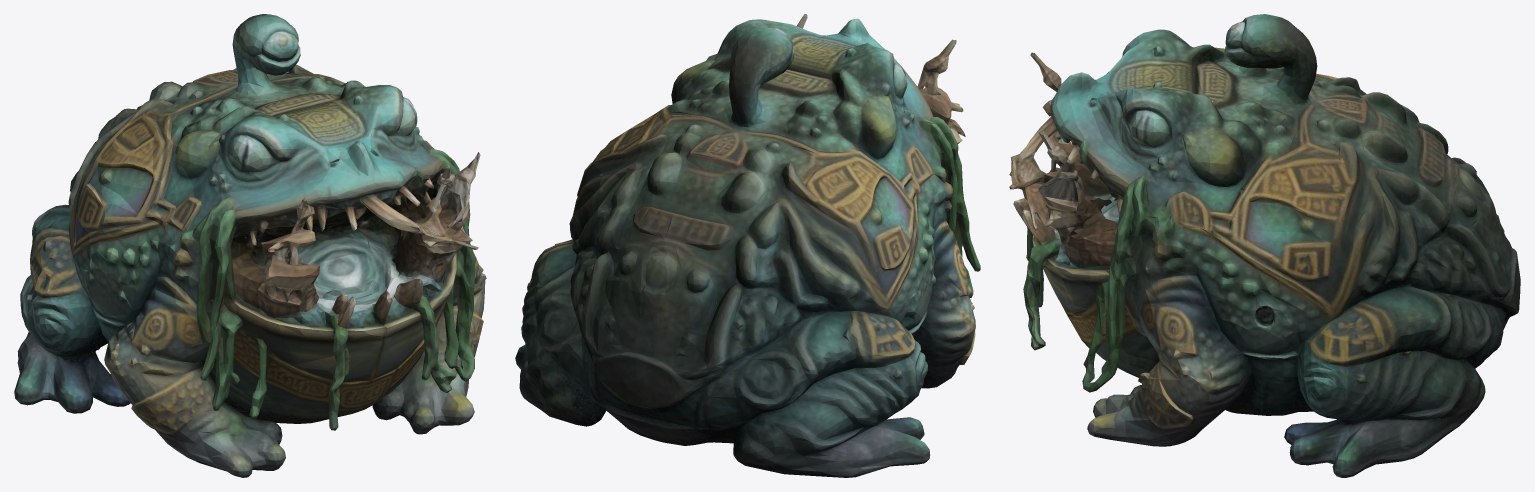
Rendered from mawdeep__charybdisGlutton.glb.
3 renders of one model, left to right at view 1: azimuth 30°, elevation 25°; view 2: azimuth 150°, elevation 25°; view 3: azimuth 270°, elevation 25°, orthographic. The views are drawn at different scales.
Parts seen in each view (by area): view 1: world; view 2: world; view 3: world.
Part boxes in pixels (x1=…): world: x1=14, y1=14, x2=486, y2=477; world: x1=515, y1=14, x2=980, y2=477; world: x1=1009, y1=14, x2=1520, y2=477.
Size of the model in its own units: 0.941 by 0.802 by 0.9957.
Materials: 1 (1 with a texture image).
